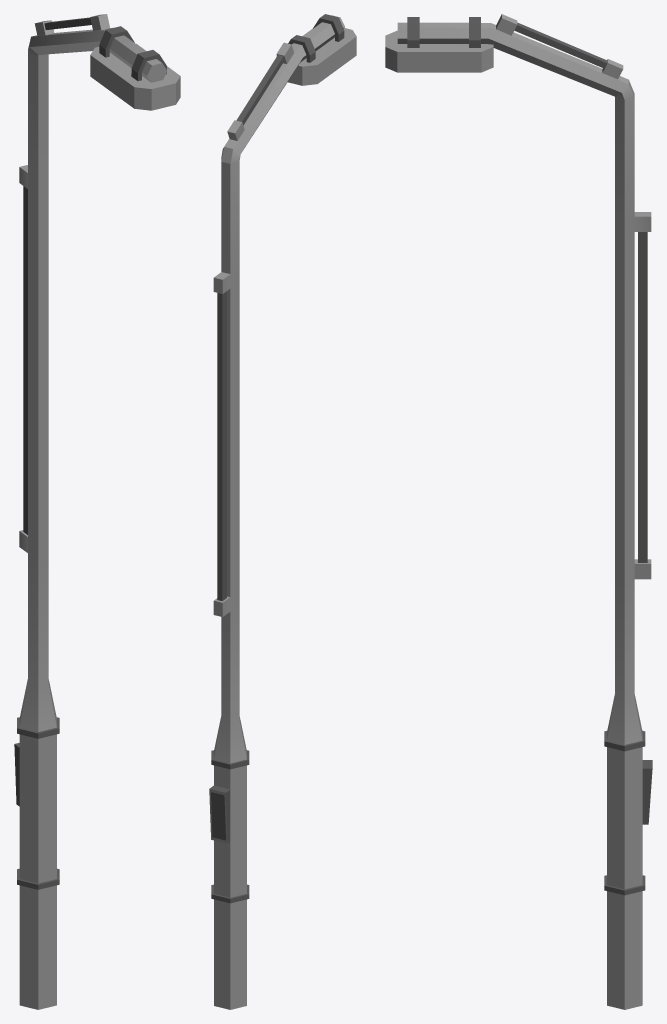
Rendered from SM_StreetLamp_01.FBX.
3 renders of one model, left to right at view 1: azimuth 30°, elevation 25°; view 2: azimuth 150°, elevation 25°; view 3: azimuth 270°, elevation 25°, orthographic. The views are drawn at different scales.
Visible parts, largest first — view 1: SM_StreetLamp_01; view 2: SM_StreetLamp_01; view 3: SM_StreetLamp_01.
Part boxes in pixels (x1,y1,x2,y2): SM_StreetLamp_01: (14,14,180,1009); SM_StreetLamp_01: (209,14,356,1009); SM_StreetLamp_01: (385,14,652,1009).
Size of the model in its own units: 0.1528 by 3.26 by 0.8023.
Materials: 1 (1 with a texture image).
